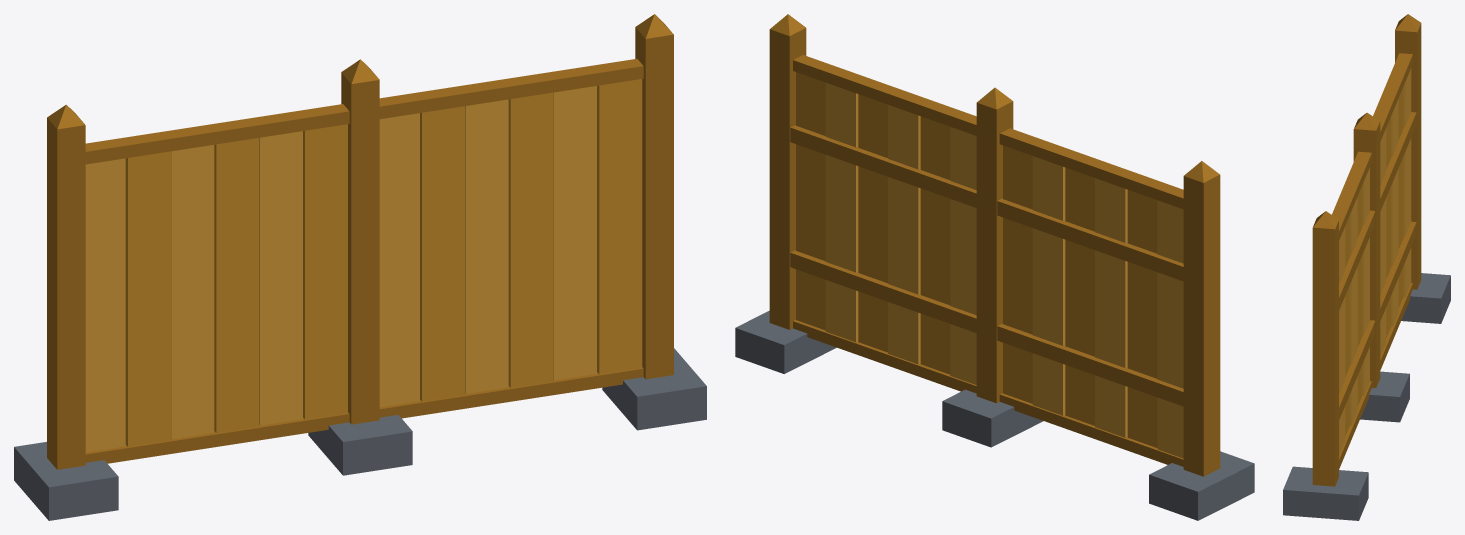
File: construction fence.fbx
3 views of the same model, side by side, from view 1: azimuth 30°, elevation 25°; view 2: azimuth 150°, elevation 25°; view 3: azimuth 270°, elevation 25° (orthographic). The views are drawn at different scales.
Visible parts, largest first — view 1: Bay_Right_Plank_1; view 2: Bay_Right_Plank_1; view 3: Bay_Right_Plank_1.
Boxes of the visible parts, box(x1,y1,x2,y2) form: Bay_Right_Plank_1: box(14, 14, 706, 520); Bay_Right_Plank_1: box(735, 14, 1254, 520); Bay_Right_Plank_1: box(1283, 14, 1450, 520).
Bounding box in the file's own units: 305 × 186 × 95.77.
